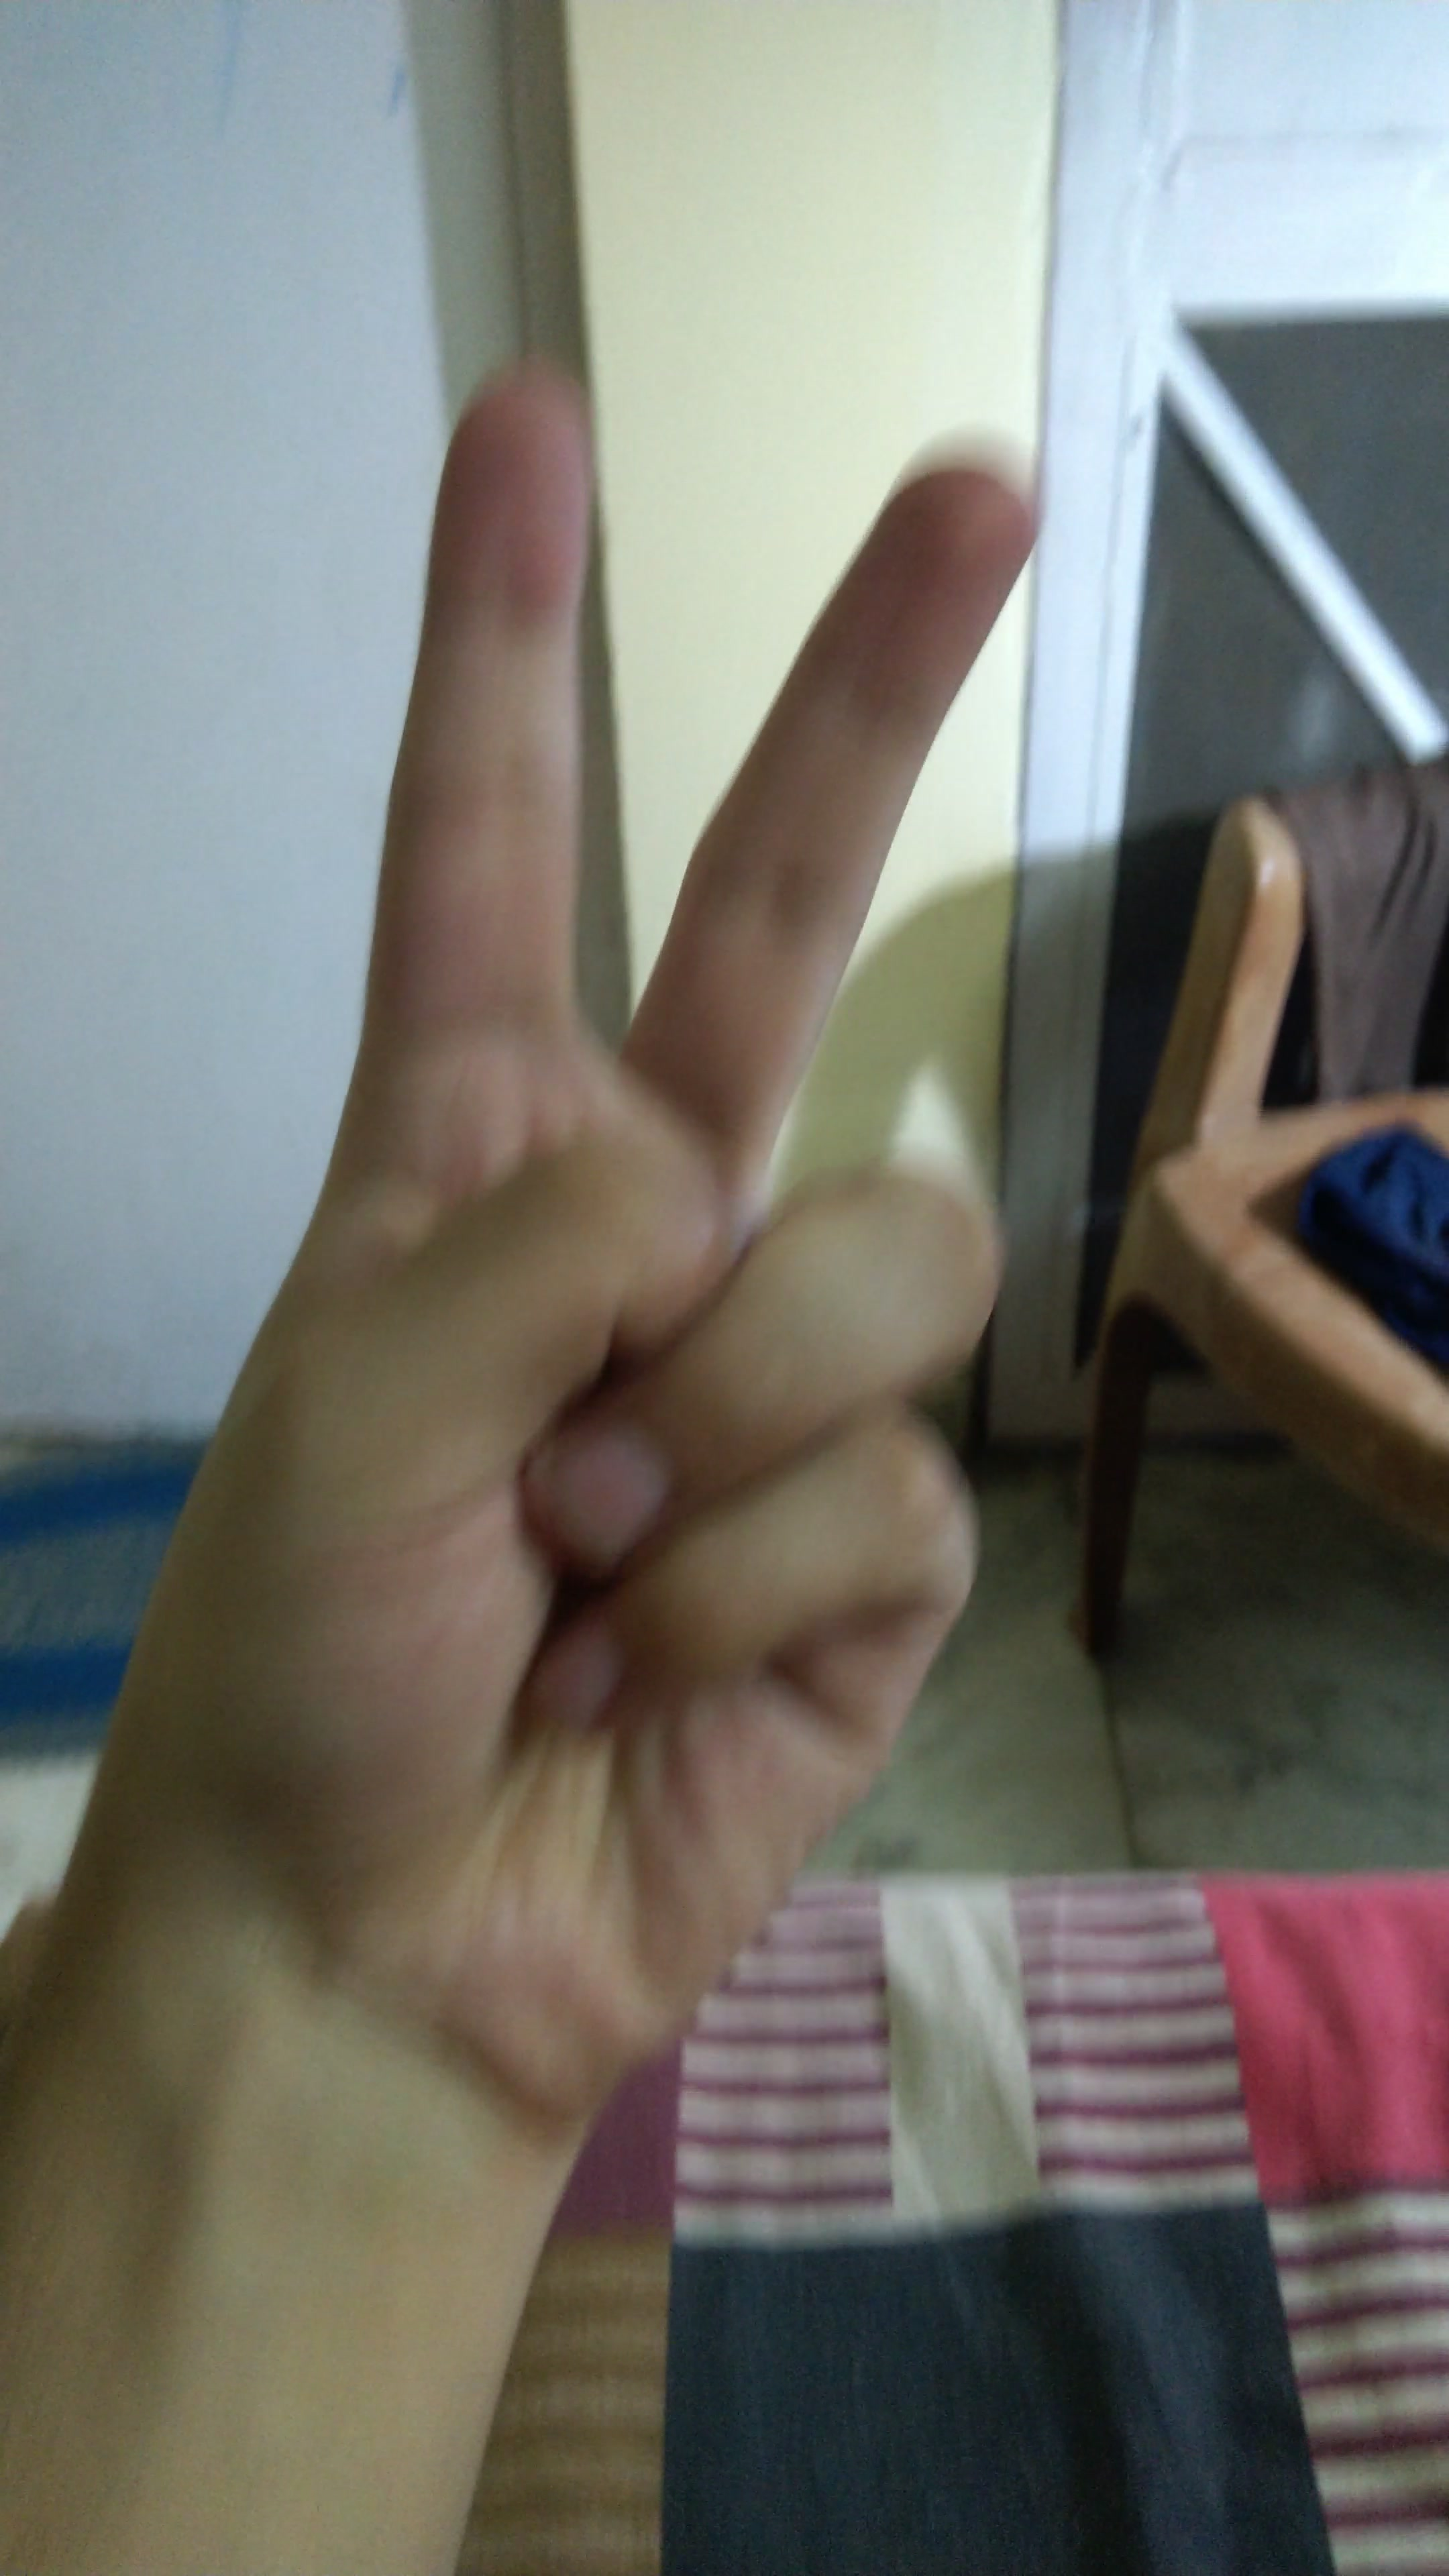hand: (60, 329, 1208, 2162)
